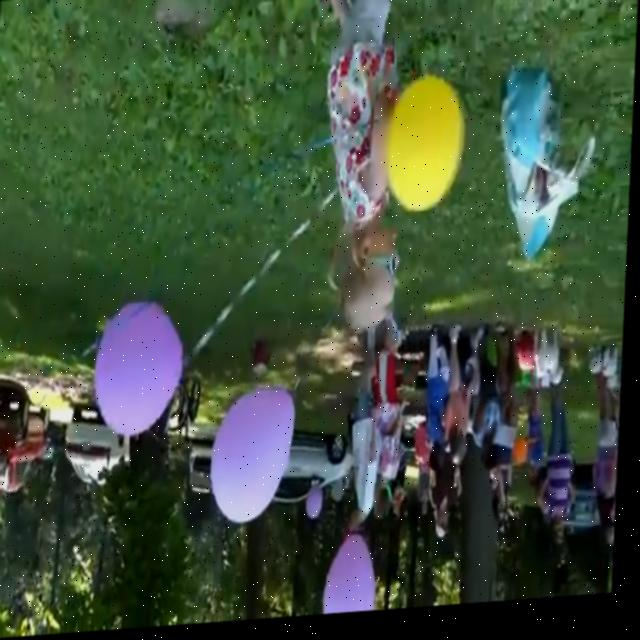balloon: (96, 297, 185, 442), (211, 389, 298, 528), (389, 83, 466, 219), (331, 539, 379, 619), (310, 486, 325, 523)
